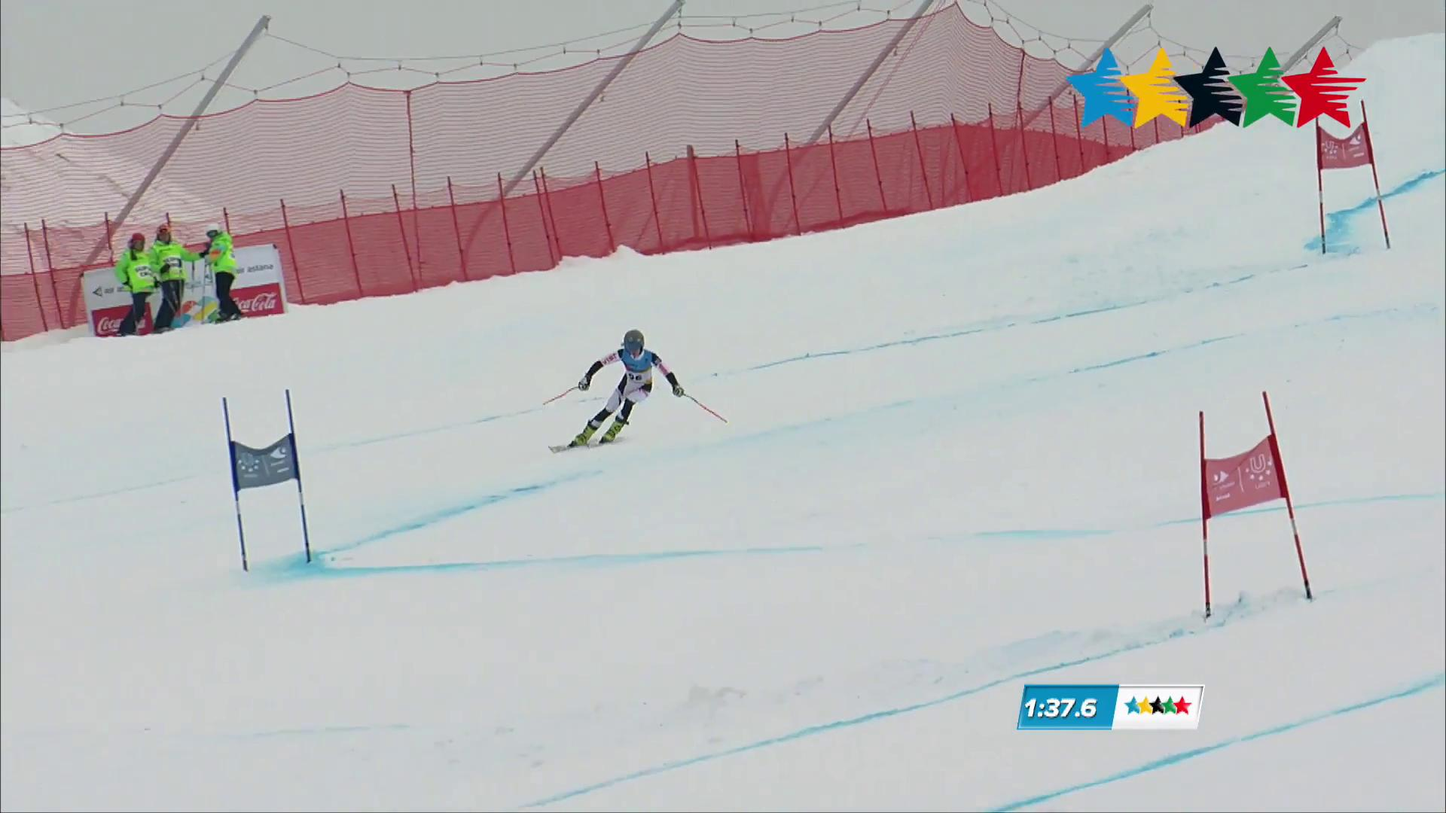gate: (1199, 391, 1312, 617), (223, 390, 308, 568)
